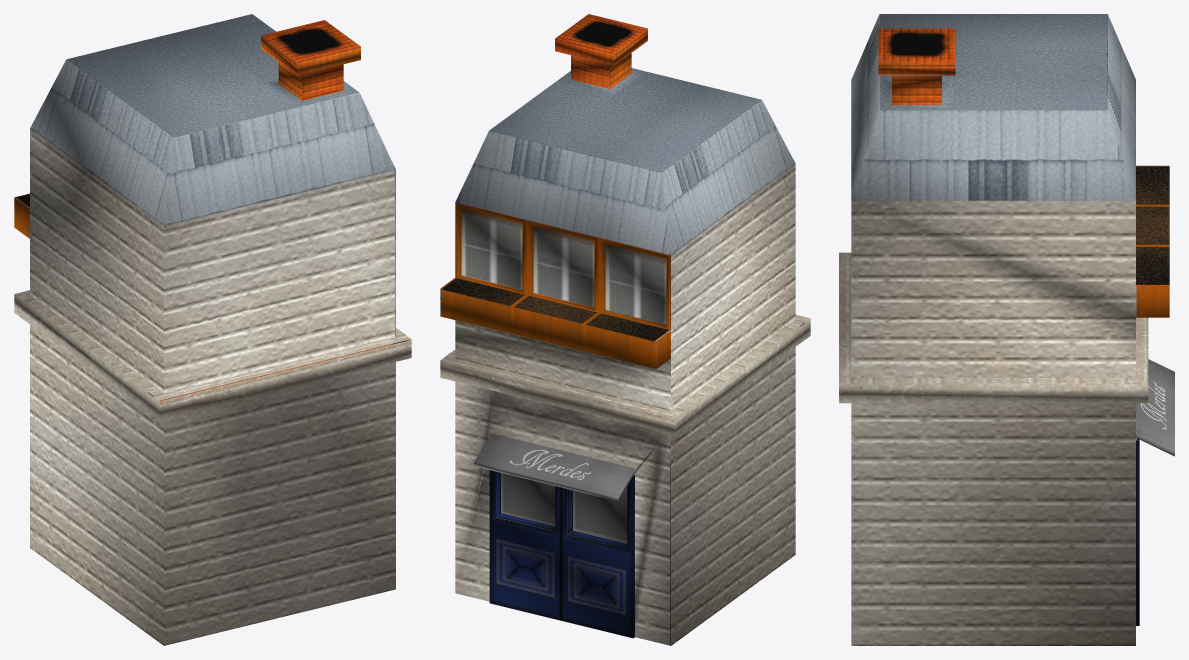
Rendered from building_15.obj.
The picture shows the model from 3 angles, left to right: view 1: azimuth 30°, elevation 25°; view 2: azimuth 150°, elevation 25°; view 3: azimuth 270°, elevation 25°; orthographic projection. The views are drawn at different scales.
Visible parts, largest first — view 1: Cube3_copy15; view 2: Cube3_copy15; view 3: Cube3_copy15.
Boxes of the visible parts, x1,y1,x2,y2 form: Cube3_copy15: (14,14,411,645); Cube3_copy15: (440,14,810,645); Cube3_copy15: (839,14,1174,645).
Bounding box in the file's own units: 298 × 608 × 323.
Materials: 1 (1 with a texture image).
